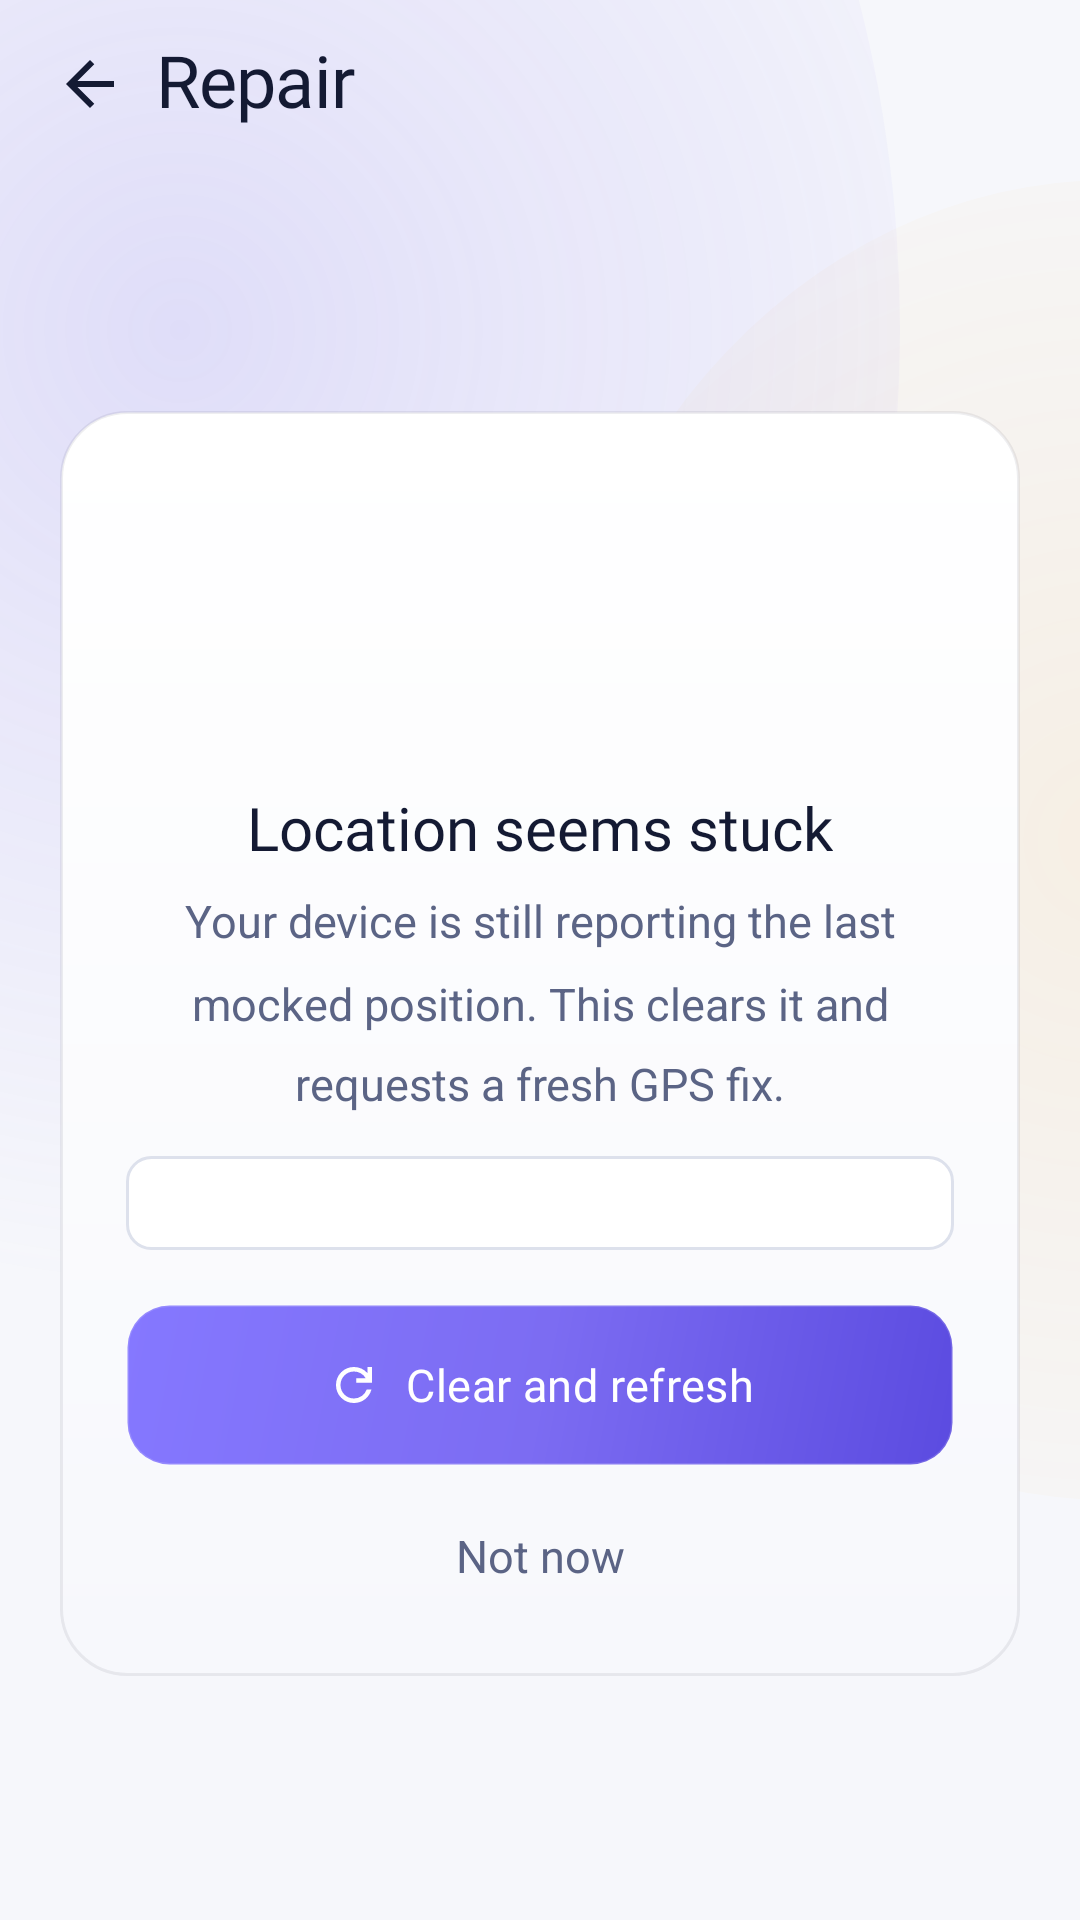

Screen size 1080px x 1920px. Icon name, then its box in pixels as box=[x1, y1, x2, y2]:
arrow back: box=[66, 60, 114, 108]
